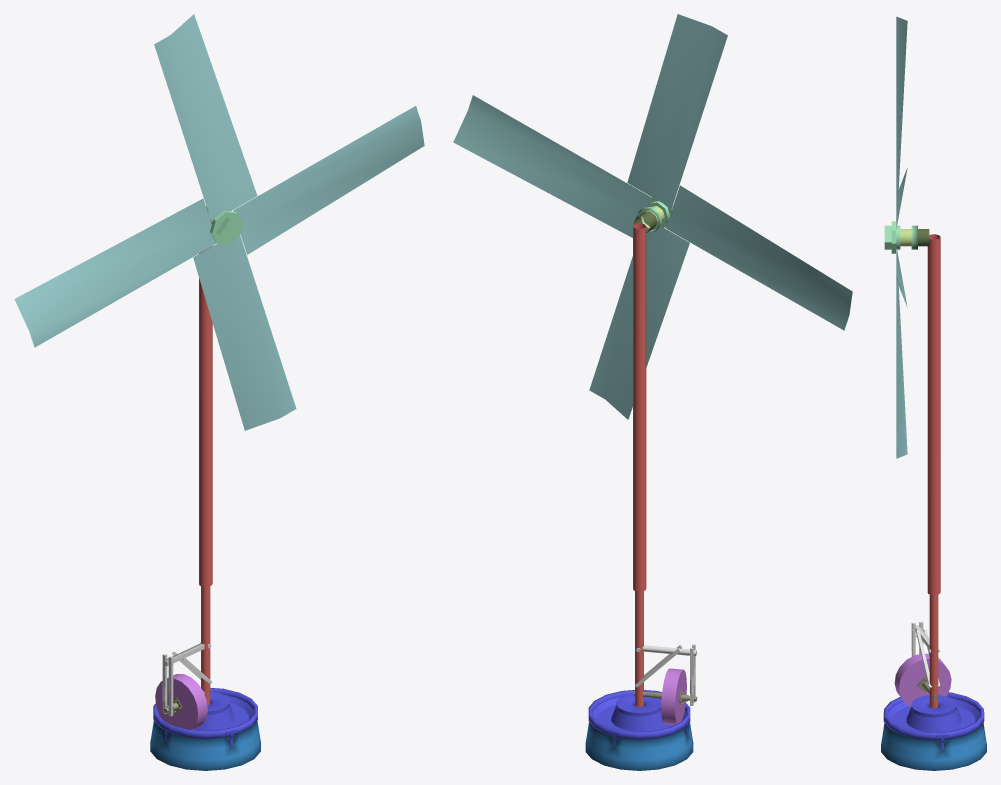
The model's file is windmill.fbx.
3 renders of one model, left to right at view 1: azimuth 30°, elevation 25°; view 2: azimuth 150°, elevation 25°; view 3: azimuth 270°, elevation 25°, orthographic. The views are drawn at different scales.
Parts seen in each view (by area): view 1: SFarmhouseMillFanMesh:25, Mill01NEW:1, Base01:2, Base01:36, Wheel01:36, Frame01:1, SFarmhouseMillFanMesh:1; view 2: SFarmhouseMillFanMesh:25, Mill01NEW:1, Base01:2, Base01:36, Wheel01:36, Frame01:1; view 3: Mill01NEW:1, Base01:36, Base01:2, SFarmhouseMillFanMesh:25, Wheel01:36, Frame01:1, SFarmhouseMillFanMesh:1, SFarmhouseMillFanMesh:17.
Boxes of the visible parts, x1=… form: SFarmhouseMillFanMesh:25: x1=14, y1=14, x2=424, y2=430; Mill01NEW:1: x1=199, y1=246, x2=212, y2=704; Base01:2: x1=150, y1=721, x2=260, y2=770; Base01:36: x1=153, y1=688, x2=257, y2=746; Wheel01:36: x1=155, y1=674, x2=207, y2=729; Frame01:1: x1=162, y1=643, x2=211, y2=701; SFarmhouseMillFanMesh:1: x1=207, y1=210, x2=243, y2=244; SFarmhouseMillFanMesh:25: x1=453, y1=14, x2=852, y2=419; Mill01NEW:1: x1=633, y1=223, x2=646, y2=706; Base01:2: x1=585, y1=722, x2=693, y2=770; Base01:36: x1=588, y1=690, x2=690, y2=746; Wheel01:36: x1=661, y1=668, x2=686, y2=724; Frame01:1: x1=635, y1=644, x2=696, y2=687; Mill01NEW:1: x1=927, y1=234, x2=940, y2=708; Base01:36: x1=883, y1=692, x2=984, y2=749; Base01:2: x1=881, y1=724, x2=986, y2=770; SFarmhouseMillFanMesh:25: x1=896, y1=16, x2=907, y2=458; Wheel01:36: x1=894, y1=653, x2=951, y2=706; Frame01:1: x1=911, y1=621, x2=939, y2=688; SFarmhouseMillFanMesh:1: x1=884, y1=221, x2=917, y2=253; SFarmhouseMillFanMesh:17: x1=900, y1=229, x2=929, y2=246.
Size of the model in its own units: 82038 by 143240 by 19193.
